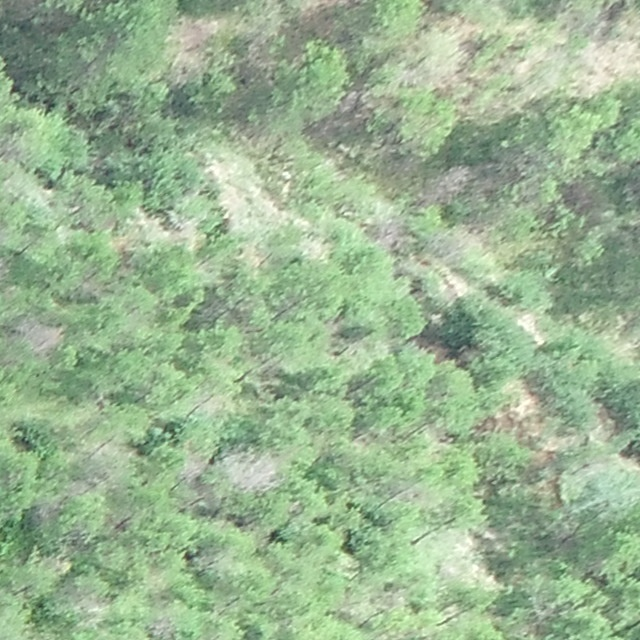unhealthy: (420, 19, 480, 95), (572, 32, 640, 96), (308, 86, 372, 142), (223, 448, 284, 491), (515, 43, 563, 92), (16, 317, 65, 357), (168, 14, 220, 49), (166, 45, 209, 87), (427, 164, 473, 203), (370, 216, 409, 251), (178, 453, 209, 483), (149, 612, 178, 640)
